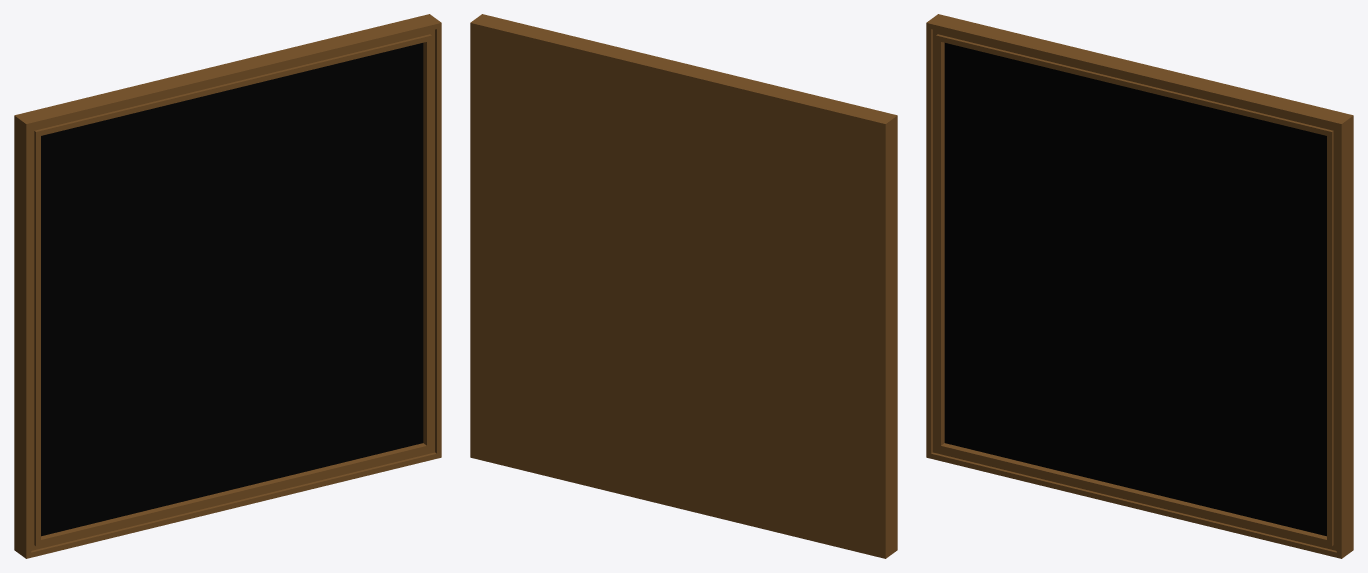
File: pictureframeedge.glb
The picture shows the model from 3 angles, left to right: view 1: azimuth 30°, elevation 25°; view 2: azimuth 150°, elevation 25°; view 3: azimuth 330°, elevation 25°; orthographic projection.
Parts seen in each view (by area): view 1: Image, Frame; view 2: Frame; view 3: Image, Frame.
Part boxes in pixels (bbox=[...]): Image: bbox=[41, 43, 423, 536]; Frame: bbox=[14, 14, 441, 558]; Frame: bbox=[470, 14, 897, 558]; Image: bbox=[944, 43, 1326, 536]; Frame: bbox=[926, 14, 1353, 558].
Bounding box in the file's own units: 2 × 2 × 0.1005.
2 materials, 1 textured.
